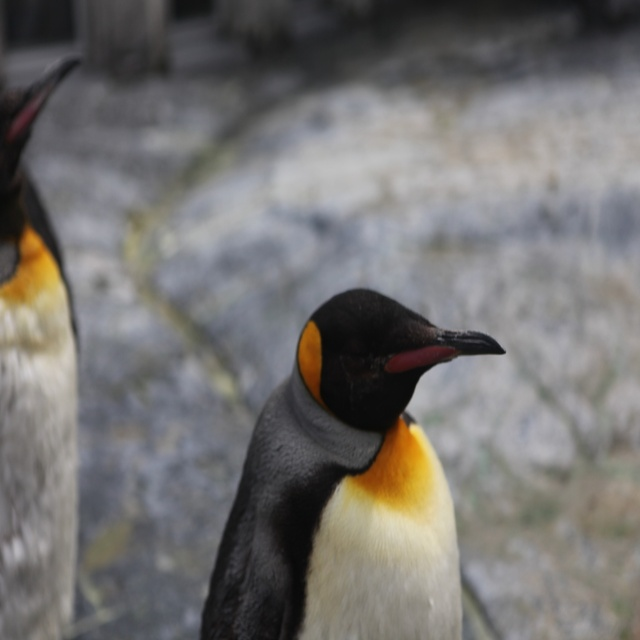Penguin: (199, 288, 507, 640), (0, 50, 83, 640)
